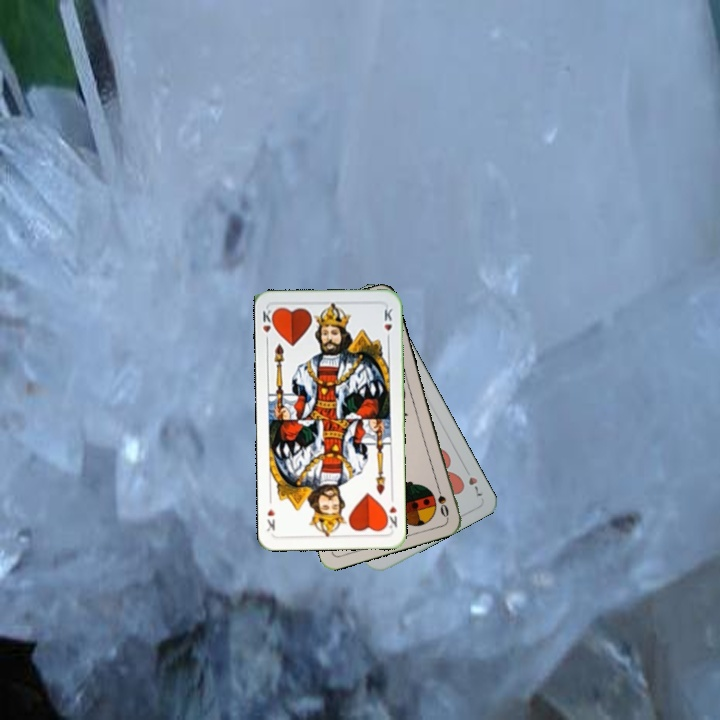H7: (460, 463, 486, 500)
HK: (258, 305, 278, 346), (381, 492, 400, 531)
SO: (432, 480, 451, 520)
